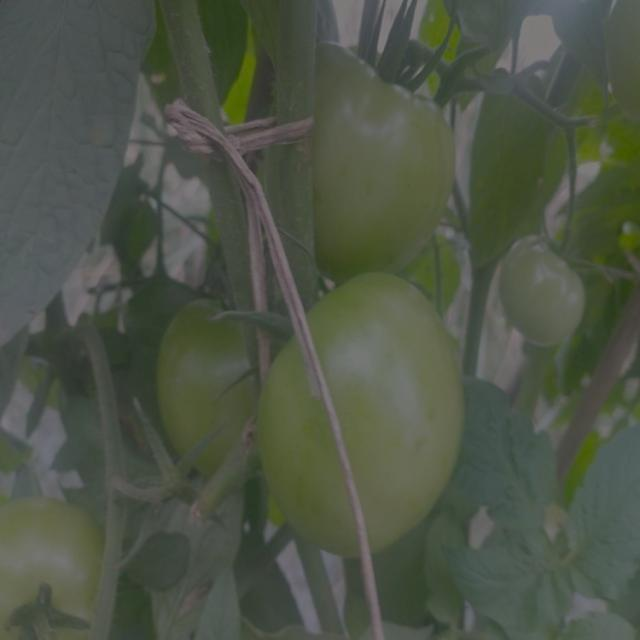tomato: (261, 278, 467, 553), (311, 43, 451, 273), (155, 299, 255, 479), (1, 495, 111, 640), (497, 236, 588, 345), (542, 508, 575, 566)
